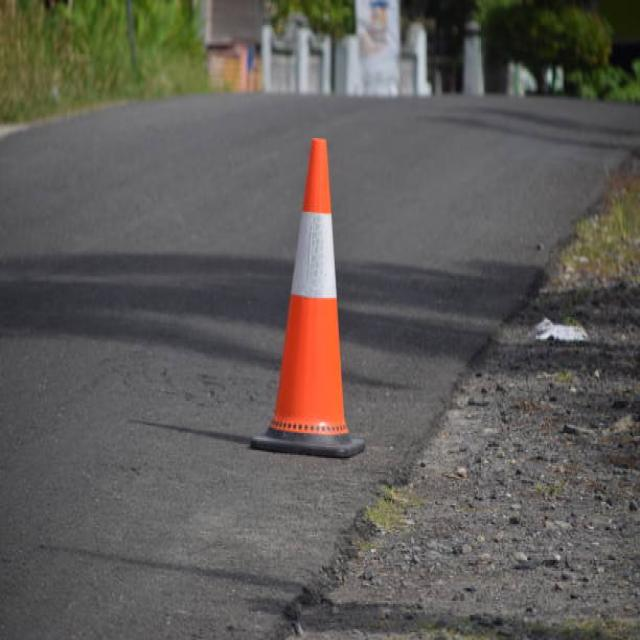Traffic Cone: (233, 75, 384, 483)
